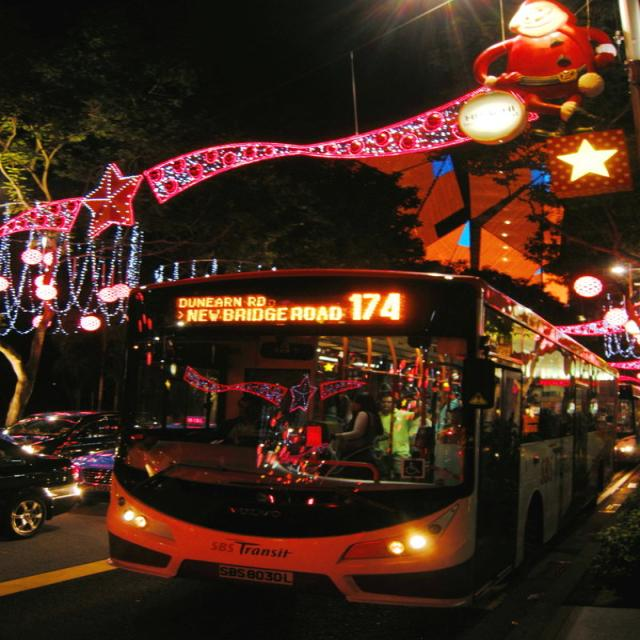Bus: (110, 232, 640, 638)
People: (320, 378, 399, 488)
car: (29, 396, 113, 521), (0, 429, 82, 547)
